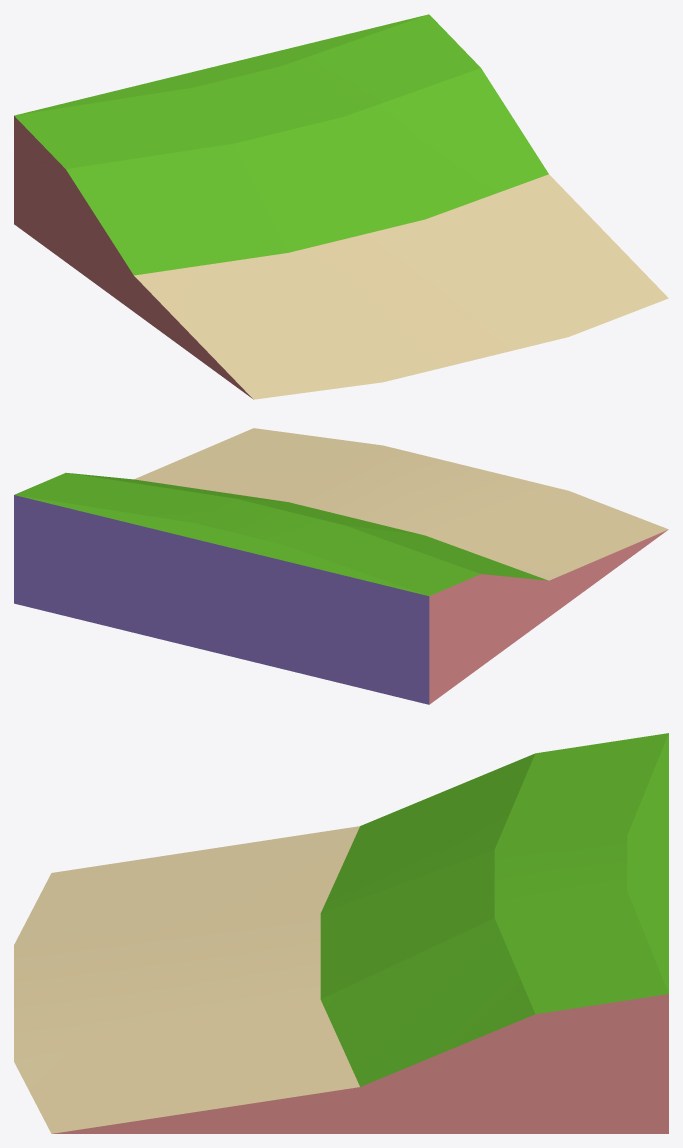
The model's file is Path_Terrain_Deformed_Straight_Convex_1x1.glb.
3 views of the same model, one above another, from view 1: azimuth 30°, elevation 25°; view 2: azimuth 150°, elevation 25°; view 3: azimuth 270°, elevation 25° (orthographic). The views are drawn at different scales.
Parts seen in each view (by area): view 1: Path_Terrain_Deformed_Straight_Convex_1x1; view 2: Path_Terrain_Deformed_Straight_Convex_1x1; view 3: Path_Terrain_Deformed_Straight_Convex_1x1.
Boxes of the visible parts, bbox=[...] form: Path_Terrain_Deformed_Straight_Convex_1x1: bbox=[14, 14, 668, 399]; Path_Terrain_Deformed_Straight_Convex_1x1: bbox=[14, 428, 668, 704]; Path_Terrain_Deformed_Straight_Convex_1x1: bbox=[14, 733, 668, 1133].
Bounding box in the file's own units: 100 × 25 × 106.
